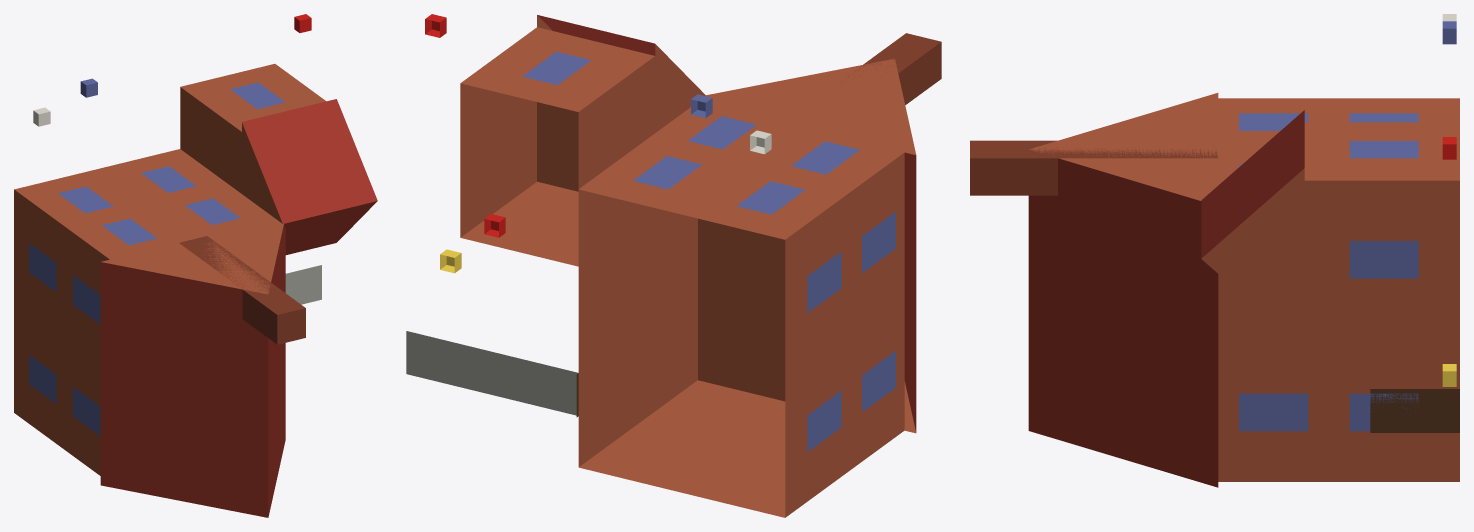
File: complete.glb
The picture shows the model from 3 angles, left to right: view 1: azimuth 30°, elevation 25°; view 2: azimuth 150°, elevation 25°; view 3: azimuth 270°, elevation 25°; orthographic projection. The views are drawn at different scales.
Parts seen in each view (by area): view 1: done; view 2: done; view 3: done.
Part boxes in pixels (x1,y1,x2,y2): done: [14, 14, 377, 517]; done: [406, 14, 941, 517]; done: [970, 14, 1459, 487].
Size of the model in its own units: 13.3 by 13.31 by 14.2.
